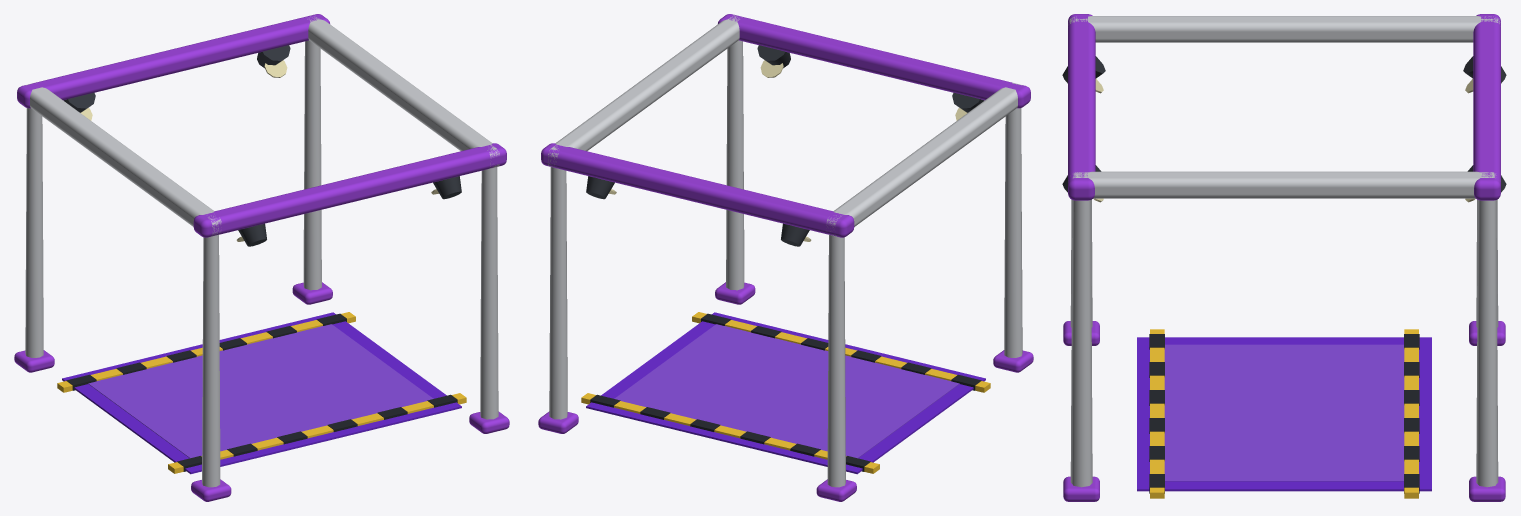
File: machine_polish.glb
3 views of the same model, side by side, from view 1: azimuth 30°, elevation 25°; view 2: azimuth 150°, elevation 25°; view 3: azimuth 270°, elevation 25° (orthographic). The views are drawn at different scales.
Parts seen in each view (by area): view 1: Machine_polish, Floor; view 2: Machine_polish, Floor; view 3: Machine_polish, Floor.
Boxes of the visible parts, box(x1,y1,x2,y2) form: Machine_polish: box(14, 14, 509, 501); Floor: box(57, 312, 466, 473); Machine_polish: box(538, 14, 1033, 501); Floor: box(581, 312, 990, 473); Machine_polish: box(1062, 14, 1506, 501); Floor: box(1149, 329, 1419, 498).
Size of the model in its own units: 4.4 by 3.84 by 4.82.
